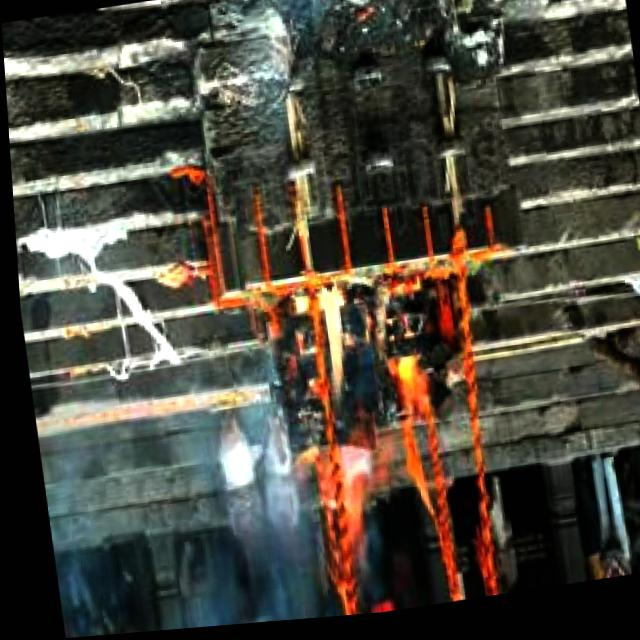Fire: (290, 275, 446, 538)
